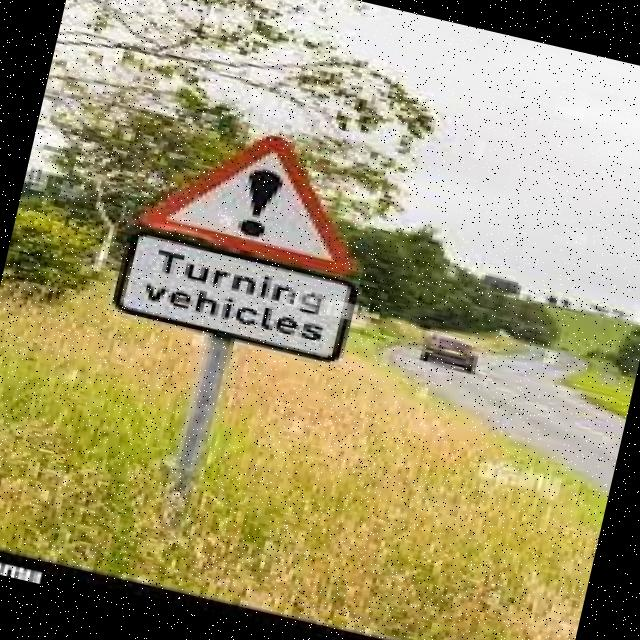warning: (130, 102, 396, 290)
